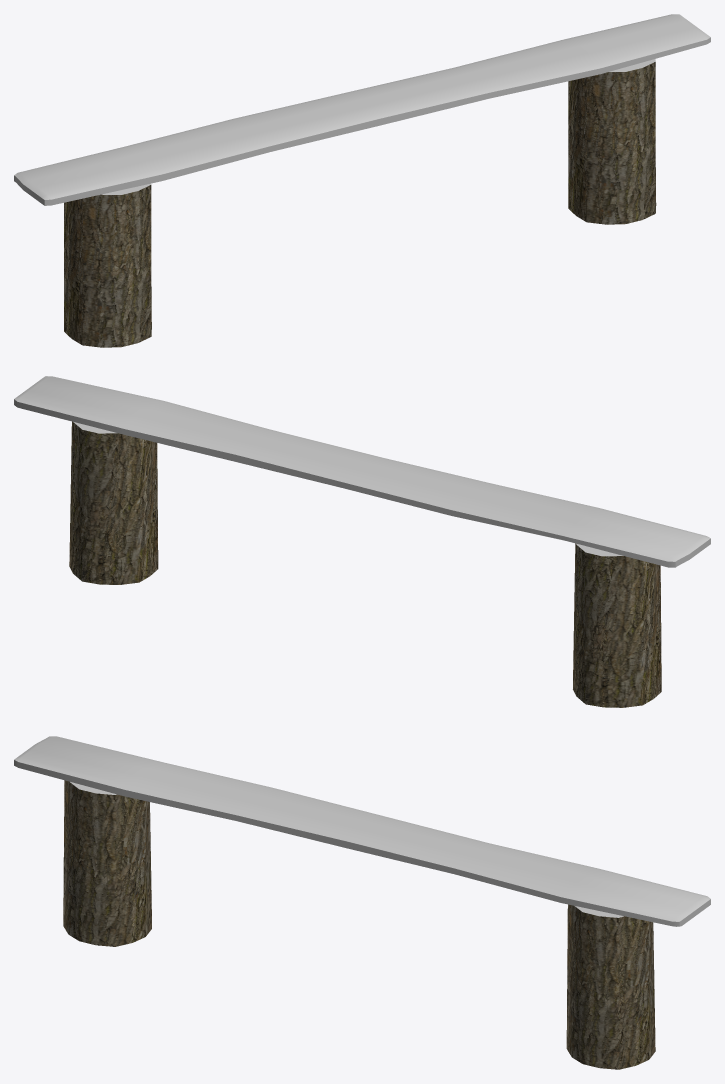
Rendered from bench_middle_b_fbx.FBX.
3 renders of one model, top to bottom at view 1: azimuth 30°, elevation 25°; view 2: azimuth 150°, elevation 25°; view 3: azimuth 330°, elevation 25°, orthographic.
Visible parts, largest first — view 1: bench_middle_b; view 2: bench_middle_b; view 3: bench_middle_b.
Part boxes in pixels (box(x1,y1,x2,y2)): bench_middle_b: box(14, 14, 710, 347); bench_middle_b: box(14, 376, 710, 707); bench_middle_b: box(14, 736, 710, 1069).
Size of the model in its own units: 240 by 27.12 by 55.75.
